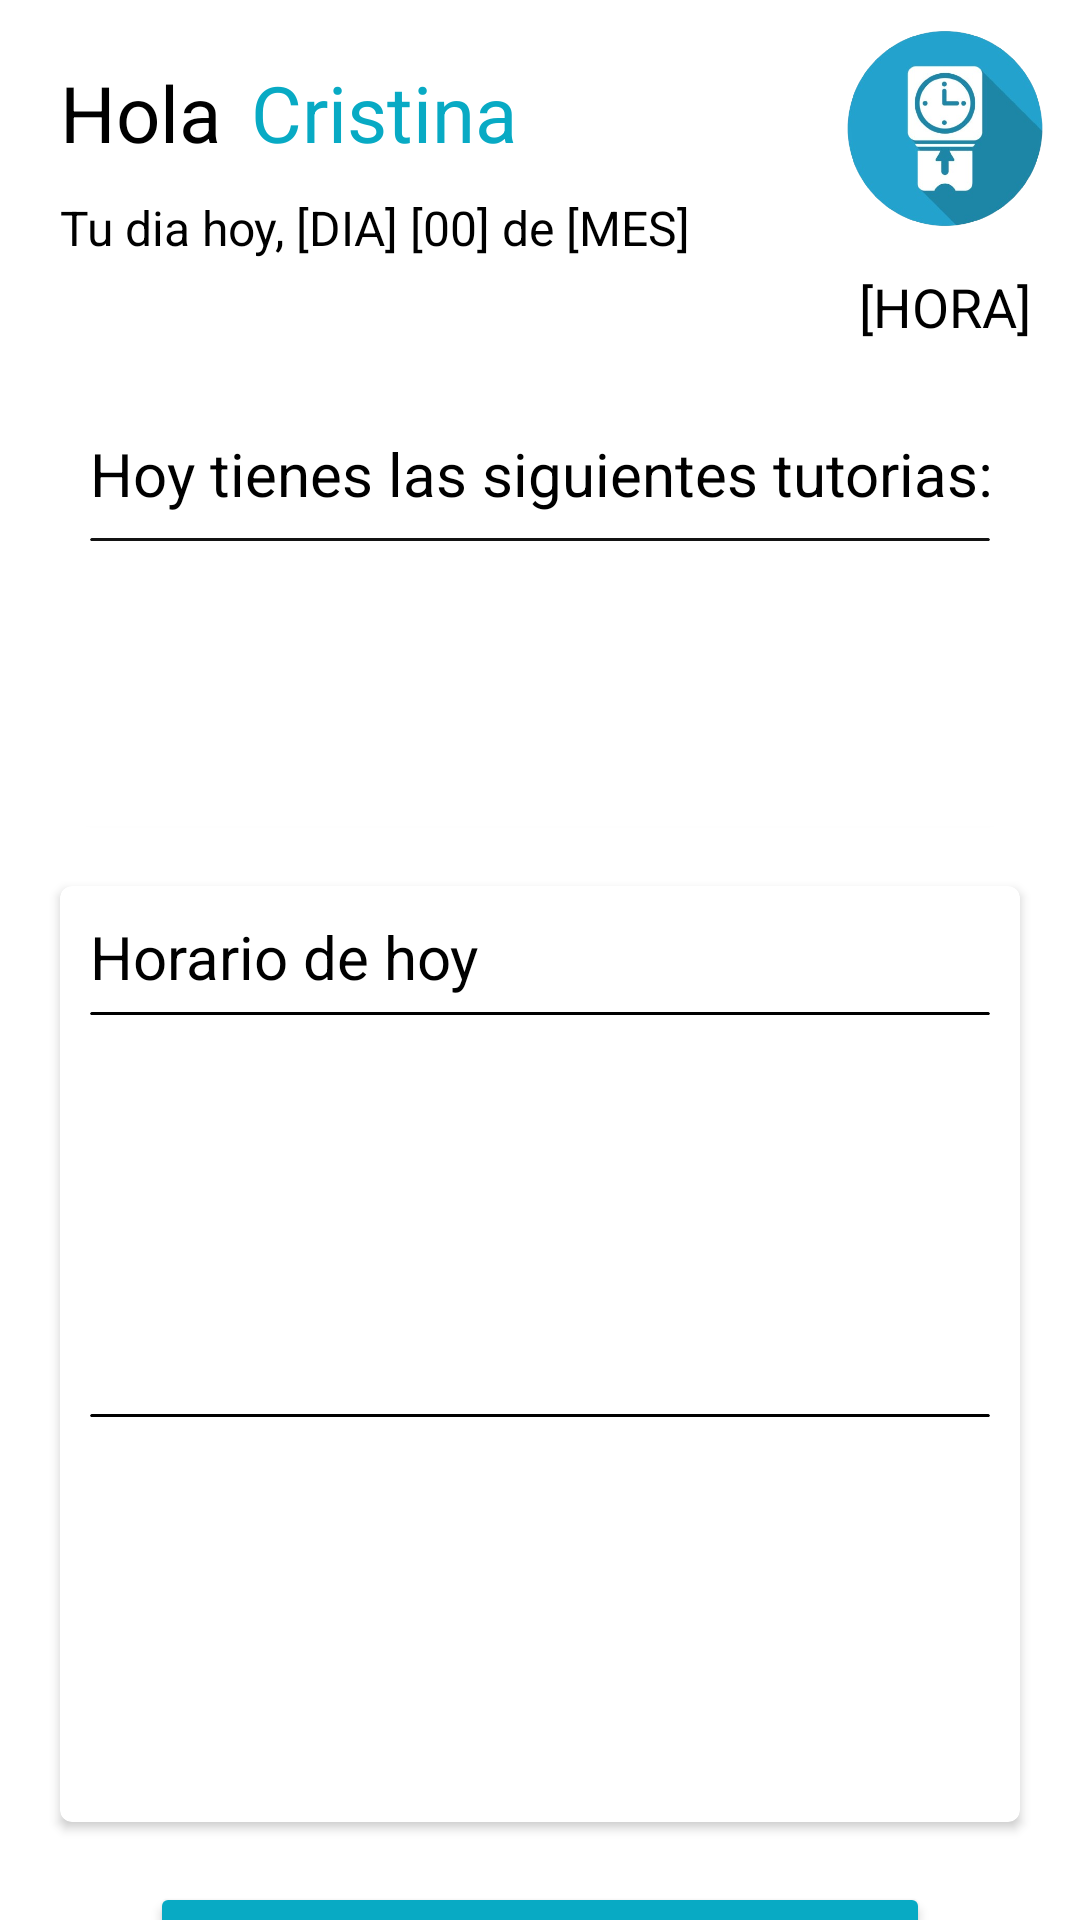

Where to tap for icons on this 1080 x 1920 app screen, as [x,y]:
entrada: [945,128]
